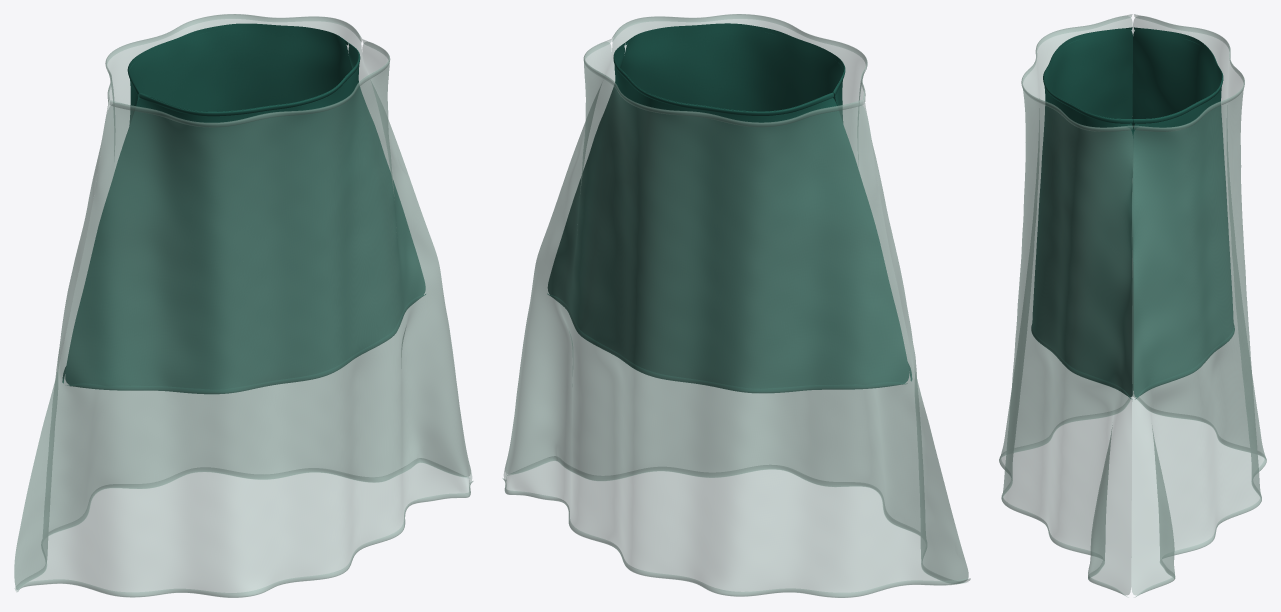
File: 潮汐-欧根纱叠裙.glb
The picture shows the model from 3 angles, left to right: view 1: azimuth 30°, elevation 25°; view 2: azimuth 150°, elevation 25°; view 3: azimuth 270°, elevation 25°; orthographic projection. The views are drawn at different scales.
Visible parts, largest first — view 1: 前片 · 欧根纱, 前片 · 绒布内衬, 后片 · 欧根纱, 后片 · 绒布内衬, 前片 · 欧根纱 包边, 前片 · 绒布内衬 包边, 后片 · 欧根纱 包边; view 2: 后片 · 欧根纱, 后片 · 绒布内衬, 前片 · 欧根纱, 前片 · 绒布内衬, 后片 · 欧根纱 包边, 后片 · 绒布内衬 包边, 前片 · 欧根纱 包边; view 3: 后片 · 欧根纱, 前片 · 欧根纱, 前片 · 绒布内衬, 后片 · 绒布内衬, 后片 · 欧根纱 包边, 前片 · 欧根纱 包边, 后片 · 绒布内衬 包边, 前片 · 绒布内衬 包边.
Part boxes in pixels (box(x1,y1,x2,y2)): 前片 · 欧根纱: box(14, 42, 471, 597); 前片 · 绒布内衬: box(65, 45, 425, 394); 后片 · 欧根纱: box(14, 14, 470, 589); 后片 · 绒布内衬: box(63, 23, 352, 379); 前片 · 欧根纱 包边: box(17, 39, 473, 597); 前片 · 绒布内衬 包边: box(67, 42, 425, 393); 后片 · 欧根纱 包边: box(14, 14, 468, 591); 后片 · 欧根纱: box(504, 42, 968, 597); 后片 · 绒布内衬: box(547, 45, 909, 393); 前片 · 欧根纱: box(505, 14, 968, 580); 前片 · 绒布内衬: box(621, 23, 910, 377); 后片 · 欧根纱 包边: box(502, 39, 970, 597); 后片 · 绒布内衬 包边: box(547, 42, 907, 393); 前片 · 欧根纱 包边: box(507, 14, 967, 583); 后片 · 欧根纱: box(1131, 16, 1265, 595); 前片 · 欧根纱: box(1000, 16, 1132, 594); 前片 · 绒布内衬: box(1032, 28, 1133, 397); 后片 · 绒布内衬: box(1132, 28, 1233, 397); 后片 · 欧根纱 包边: box(1133, 14, 1266, 597); 前片 · 欧根纱 包边: box(999, 14, 1132, 597); 后片 · 绒布内衬 包边: box(1133, 27, 1234, 399); 前片 · 绒布内衬 包边: box(1031, 27, 1133, 398).
Size of the model in its own units: 0.6812 by 0.657 by 0.3757.
8 materials, 8 textured.
